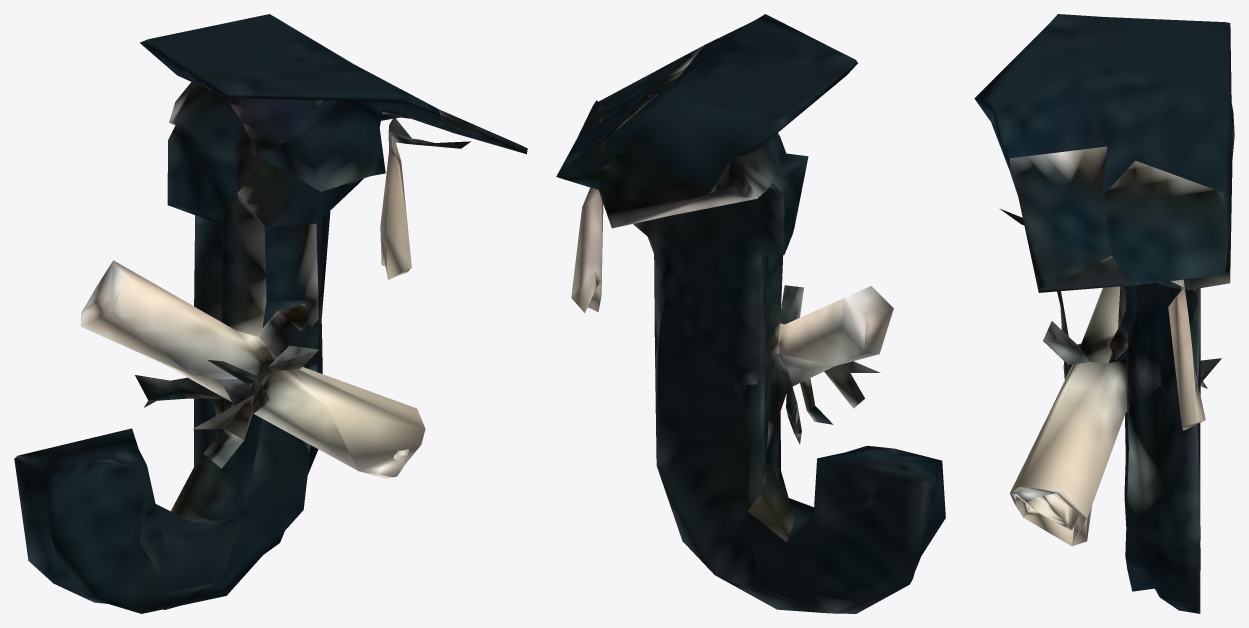
3 renders of one model, left to right at view 1: azimuth 30°, elevation 25°; view 2: azimuth 150°, elevation 25°; view 3: azimuth 270°, elevation 25°, orthographic. The views are drawn at different scales.
Visible parts, largest first — view 1: Graduation-J; view 2: Graduation-J; view 3: Graduation-J.
Part boxes in pixels (x1=…): Graduation-J: x1=14, y1=14, x2=527, y2=613; Graduation-J: x1=556, y1=14, x2=945, y2=613; Graduation-J: x1=974, y1=14, x2=1234, y2=613.
Bounding box in the file's own units: 0.2189 × 0.267 × 0.1082.
1 material, 1 textured.
